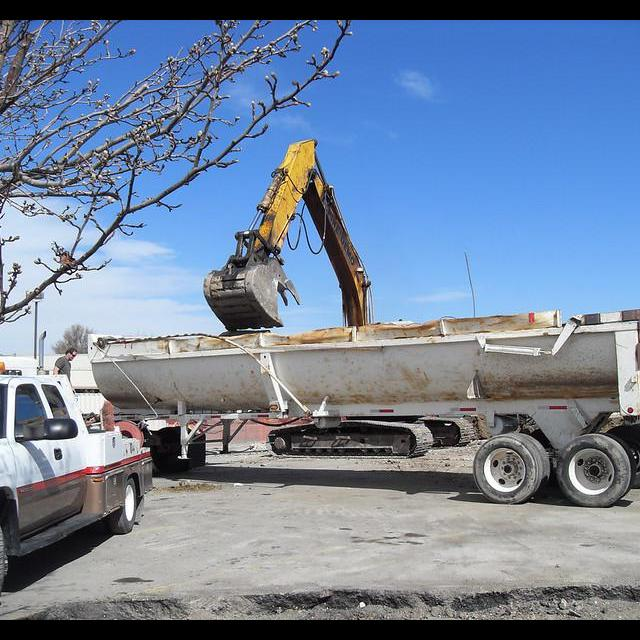Excavator: (203, 136, 476, 457)
NO-Hardhat: (67, 347, 77, 353)
NO-Mask: (69, 354, 74, 361)
NO-Safety Vest: (59, 356, 71, 376)
Person: (53, 347, 76, 379)
dump truck: (0, 308, 640, 620)
